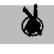not correct: (20, 4, 46, 38)
